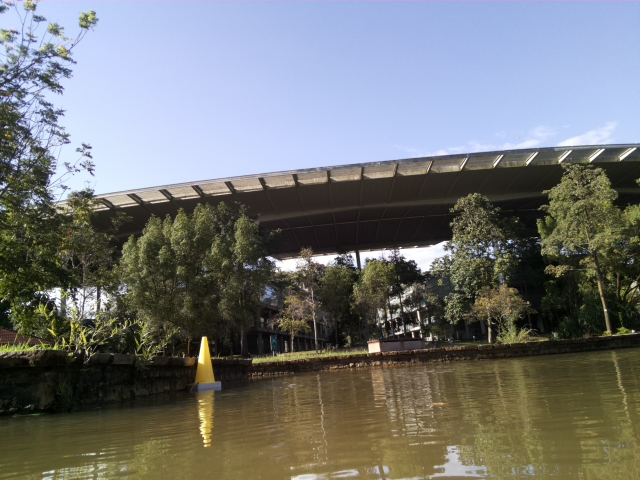checkpoint: (194, 336, 222, 391)
